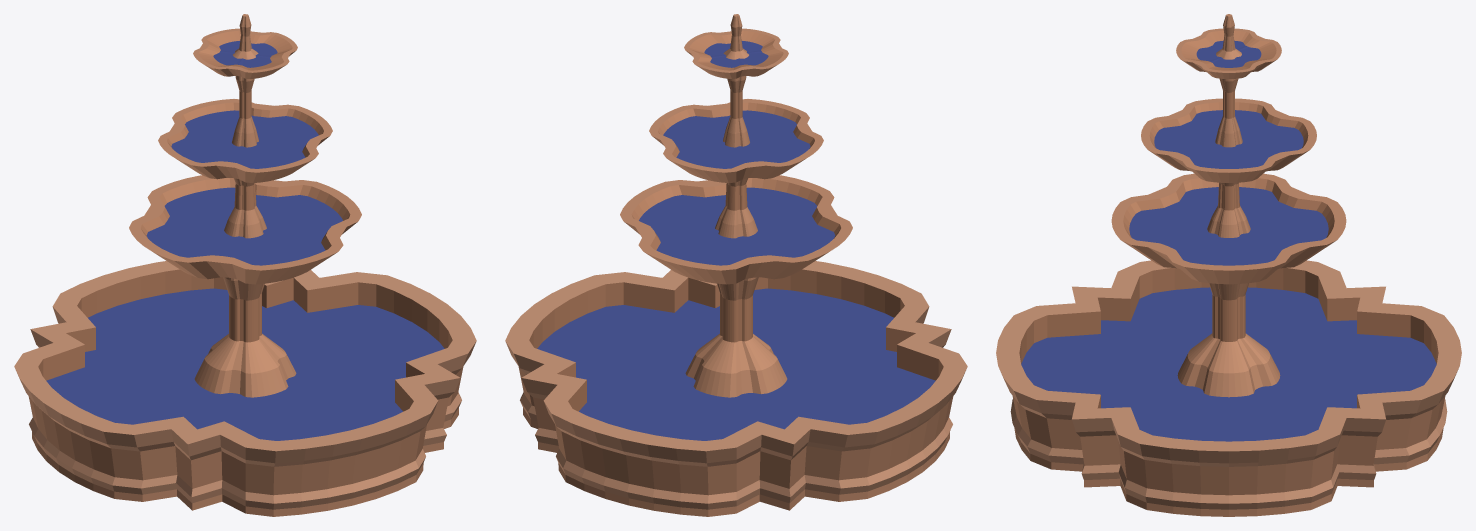
Rendered from Creative Project 1.fbx.
The picture shows the model from 3 angles, left to right: view 1: azimuth 30°, elevation 25°; view 2: azimuth 150°, elevation 25°; view 3: azimuth 270°, elevation 25°; orthographic projection.
Visible parts, largest first — view 1: Fountain; view 2: Fountain; view 3: Fountain.
Boxes of the visible parts, left/top/right/bottom form: Fountain: left=14, top=14, right=476, bottom=516; Fountain: left=505, top=14, right=967, bottom=516; Fountain: left=996, top=14, right=1461, bottom=516.
Bounding box in the file's own units: 289 × 281 × 289.
